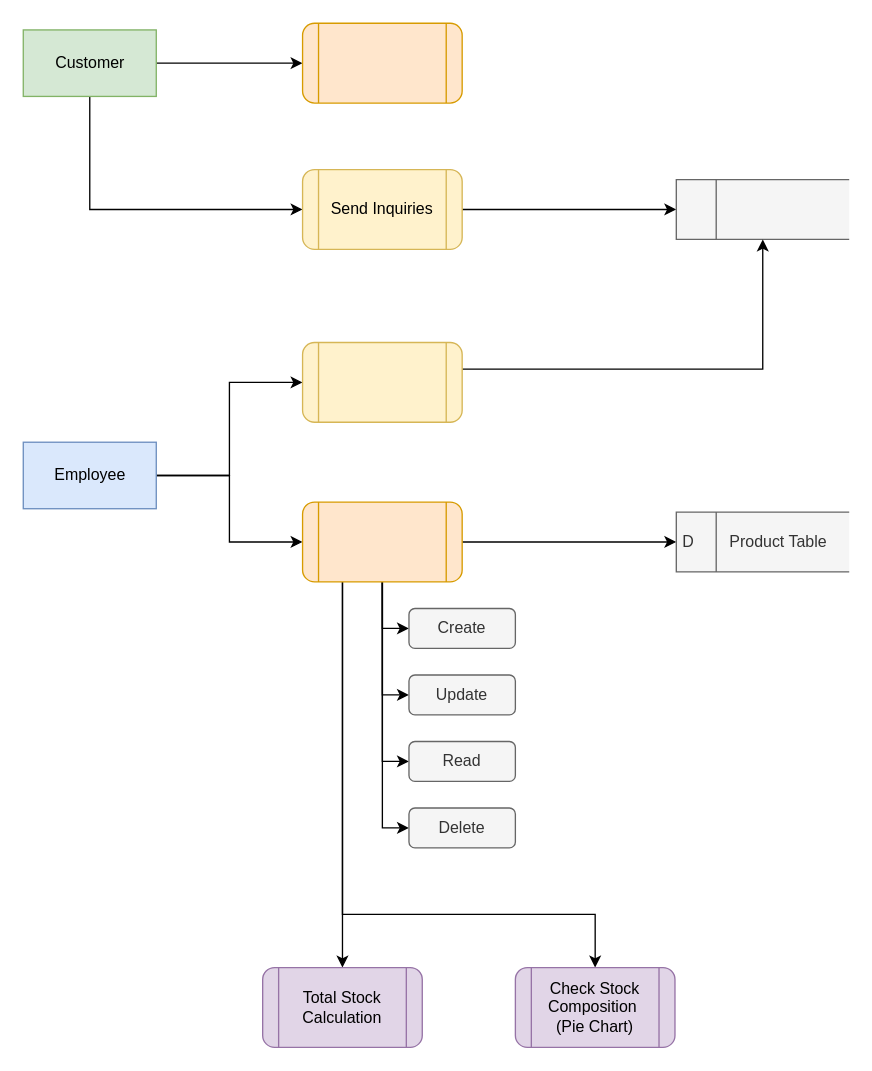
Some shapes in this 872 by 1071 pixel diagram are drawn without their labels. Here are the shapes that lost their labels. From the top down, the centre of each, then its label:
[381,62]: View Products
[762,208]: D Inquiries Table
[381,381]: Check and Manage Inquiries
[381,541]: Product Management
